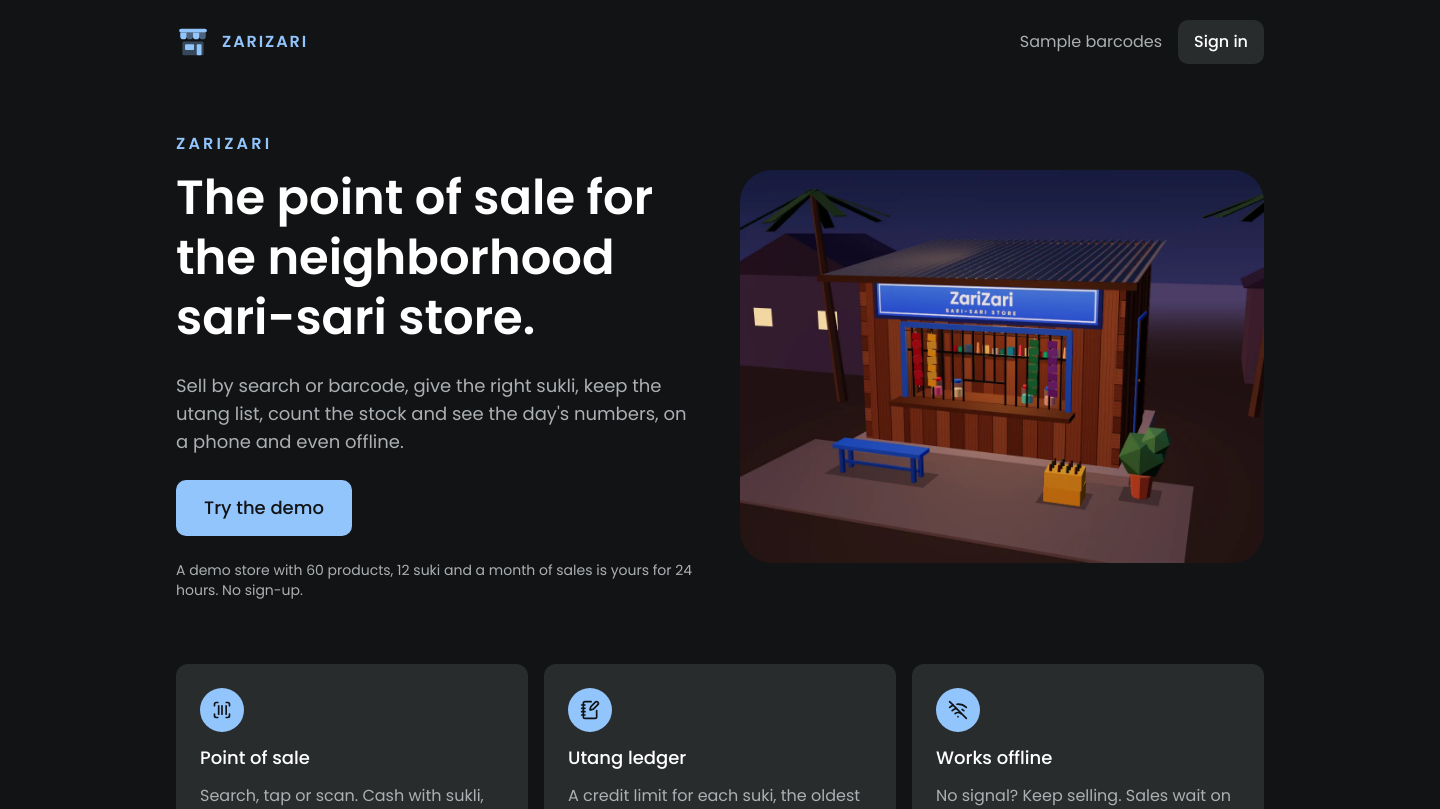
landing page (spec 3.1) › waits for the server to wake, then opens one demo store, signed in as the owner, with the demo logins
This screenshot has width=1440, height=809.
Click the button "Try the demo" at [264, 508], box x1=176 y1=480 x2=352 y2=536
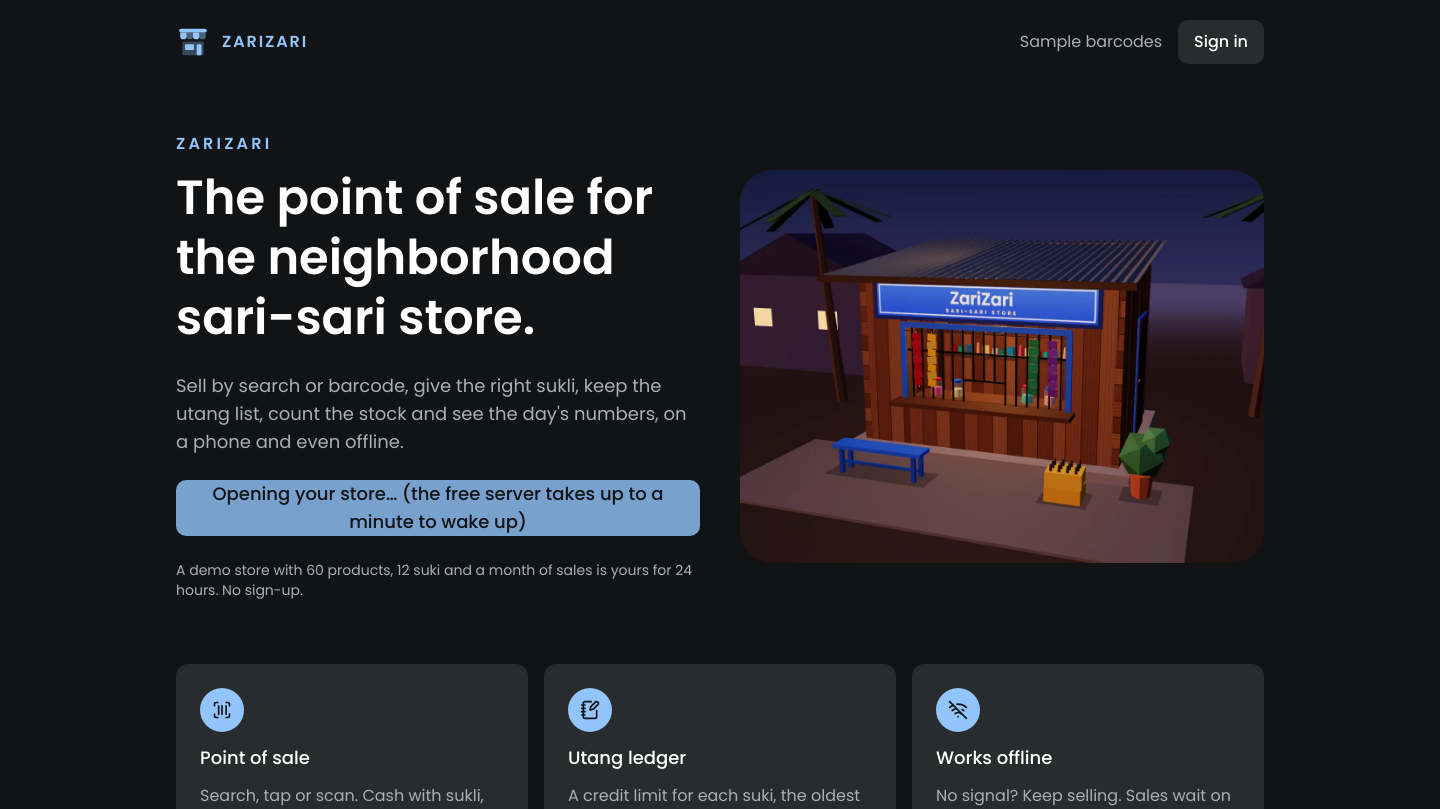
Now the button "Opening your store… (the free server takes up to a minute to wake up)" is disabled
Click the button "Opening your store… (the free server takes up to a minute to wake up)" at [438, 508], box x1=176 y1=480 x2=700 y2=536
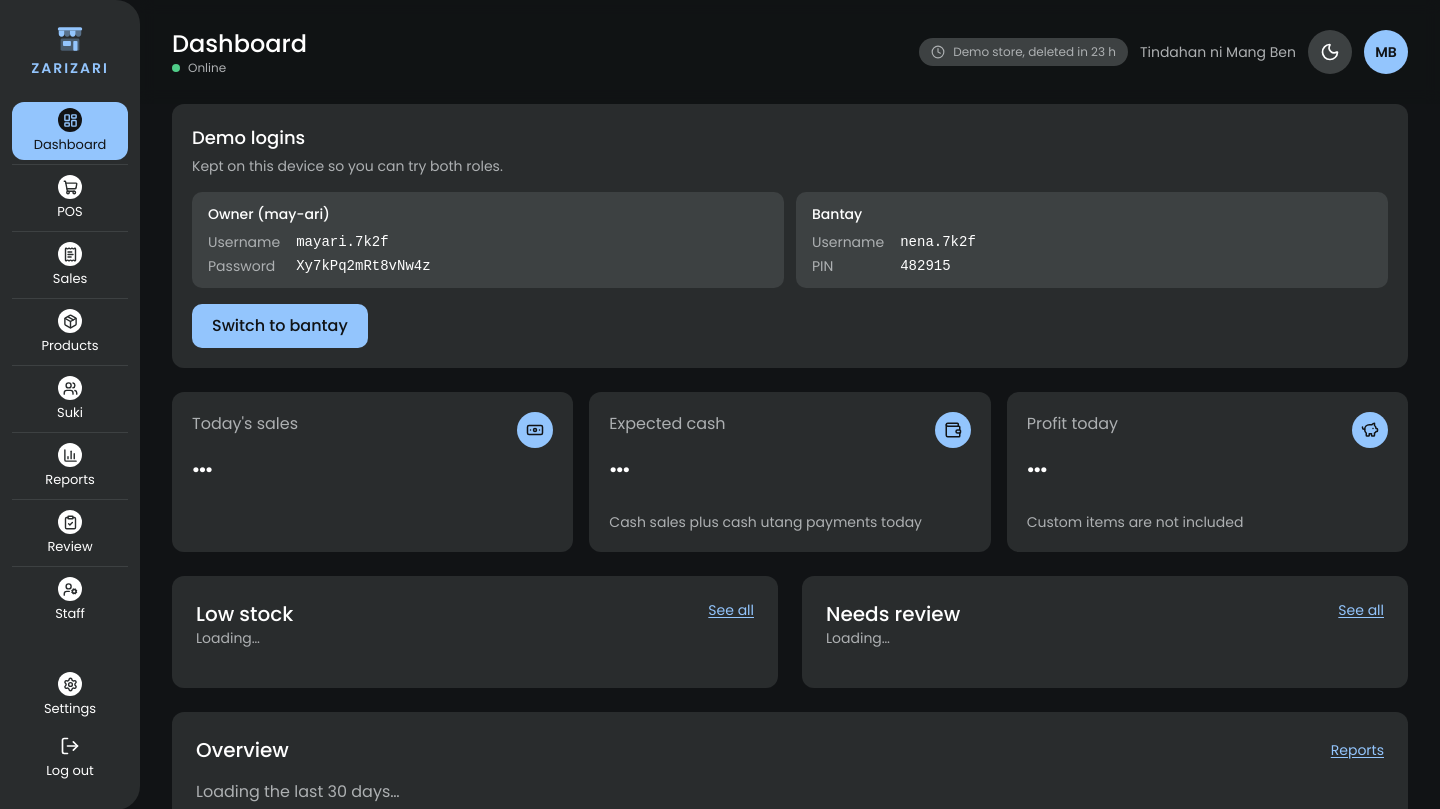
Now the element "Demo logins" is shown, box x1=172 y1=104 x2=1408 y2=368
